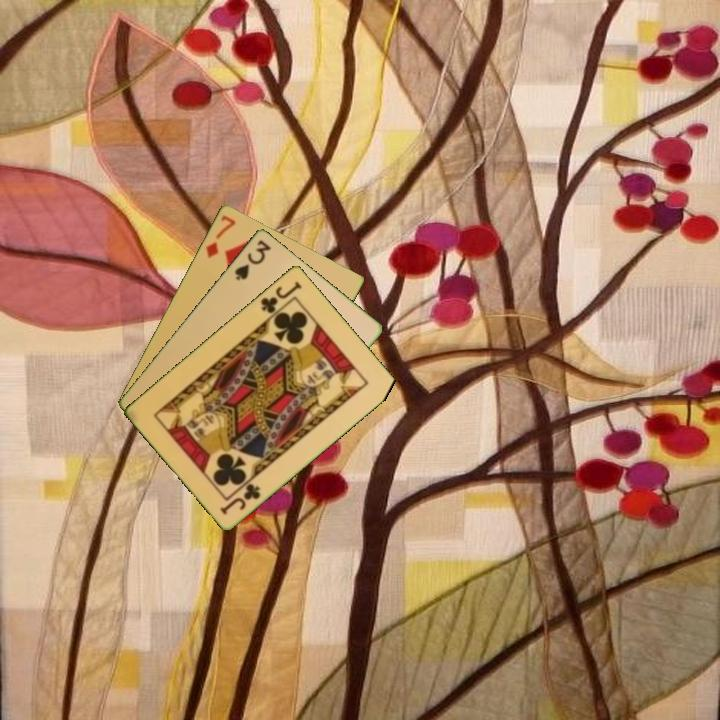3s: (231, 236, 274, 283)
7d: (202, 211, 238, 261)
Jc: (257, 277, 305, 316), (217, 479, 263, 517)
